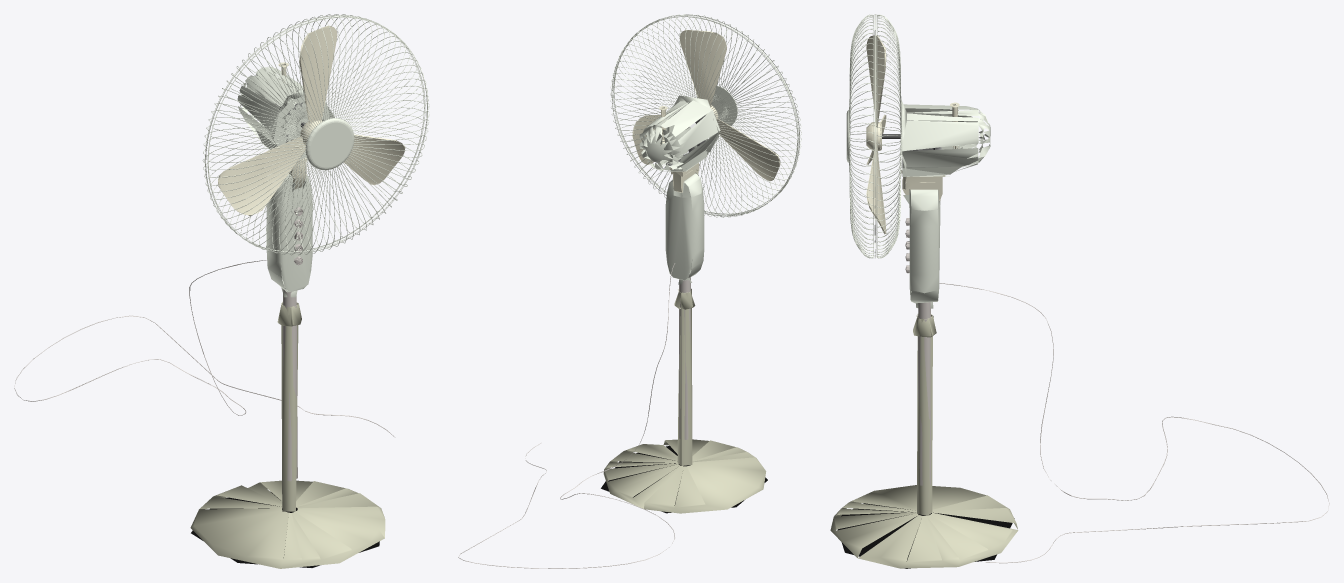
File: fan.glb
The picture shows the model from 3 angles, left to right: view 1: azimuth 30°, elevation 25°; view 2: azimuth 150°, elevation 25°; view 3: azimuth 270°, elevation 25°; orthographic projection. The views are drawn at different scales.
Visible parts, largest first — view 1: Cylinder_4, NurbsPath.001_12, Cylinder.007_16, NurbsPath.089_13, Cube_0, Cylinder.003_15, Cube.003_3, NurbsPath.002_18, Cylinder.001_5; view 2: Cylinder_4, NurbsPath.089_13, NurbsPath.001_12, Cylinder.007_16, Cylinder.003_15, Cube_0, Cube.003_3, NurbsPath.002_18, Cylinder.001_5, Cylinder.006_9; view 3: Cylinder_4, Cylinder.003_15, Cube_0, NurbsPath.001_12, NurbsPath.089_13, Cylinder.007_16, NurbsPath.002_18, Cylinder.001_5, Cube.003_3, Cube.001_1.
Part boxes in pixels (box(x1,y1,x2,y2)): Cylinder_4: box(190, 301, 385, 568); NurbsPath.001_12: box(207, 16, 429, 255); Cylinder.007_16: box(218, 25, 405, 215); NurbsPath.089_13: box(202, 14, 424, 251); Cube_0: box(266, 174, 312, 297); Cylinder.003_15: box(237, 66, 334, 159); Cube.003_3: box(205, 15, 428, 253); NurbsPath.002_18: box(14, 260, 394, 436); Cylinder.001_5: box(283, 289, 297, 481); Cylinder_4: box(601, 288, 767, 513); NurbsPath.089_13: box(610, 16, 798, 217); NurbsPath.001_12: box(613, 14, 801, 214); Cylinder.007_16: box(632, 30, 780, 181); Cylinder.003_15: box(639, 95, 720, 171); Cube_0: box(665, 172, 704, 284); Cube.003_3: box(611, 14, 799, 216); NurbsPath.002_18: box(458, 263, 675, 568); Cylinder.001_5: box(679, 274, 690, 439); Cylinder.006_9: box(655, 124, 690, 158); Cylinder_4: box(830, 314, 1018, 568); Cylinder.003_15: box(901, 100, 990, 176); Cube_0: box(903, 189, 940, 308); NurbsPath.001_12: box(846, 14, 873, 258); NurbsPath.089_13: box(876, 14, 901, 258); Cylinder.007_16: box(866, 35, 886, 234); NurbsPath.002_18: box(939, 283, 1329, 563); Cylinder.001_5: box(918, 302, 930, 485); Cube.003_3: box(874, 14, 877, 258); Cube.001_1: box(901, 170, 945, 200).
Size of the model in its own units: 16.09 by 30.84 by 27.61.
